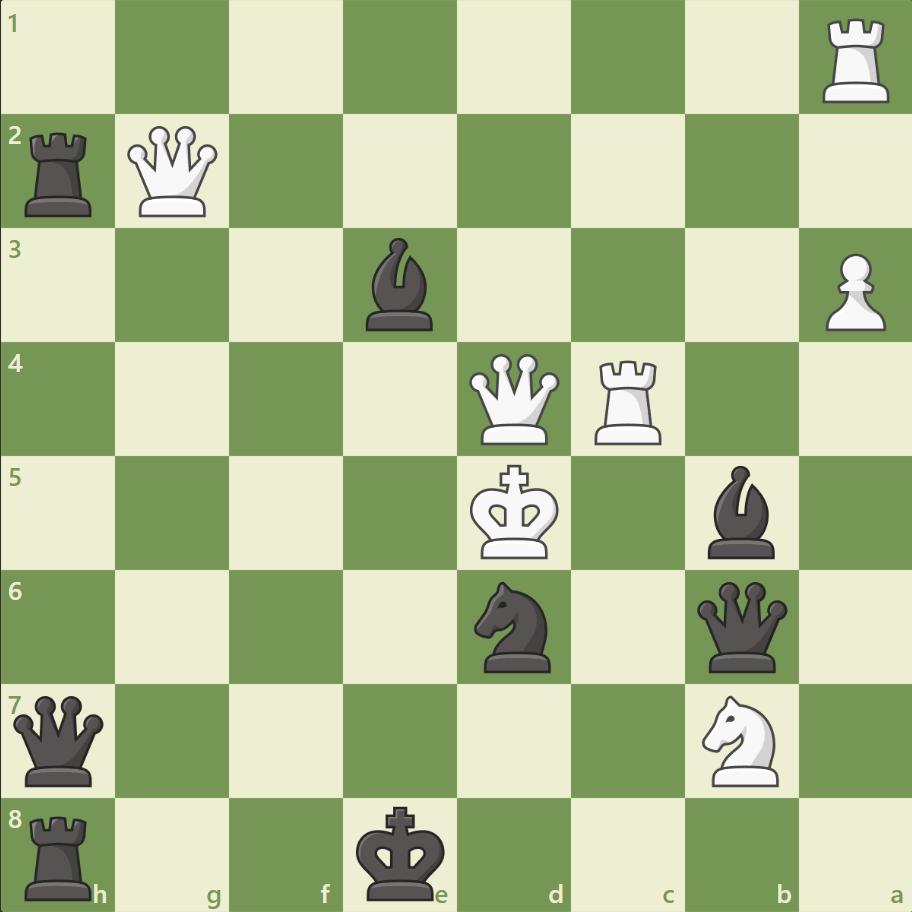K: (465, 458, 565, 566)
N: (692, 688, 789, 791)
P: (815, 246, 889, 337)
Q: (464, 349, 563, 449), (124, 122, 223, 222)
R: (587, 352, 670, 449), (814, 12, 897, 109)
b: (698, 460, 782, 563), (358, 233, 442, 336)
k: (351, 798, 451, 906)
n: (465, 575, 562, 677)
q: (691, 576, 790, 676), (10, 690, 109, 789)
r: (19, 806, 102, 904), (19, 125, 102, 222)
